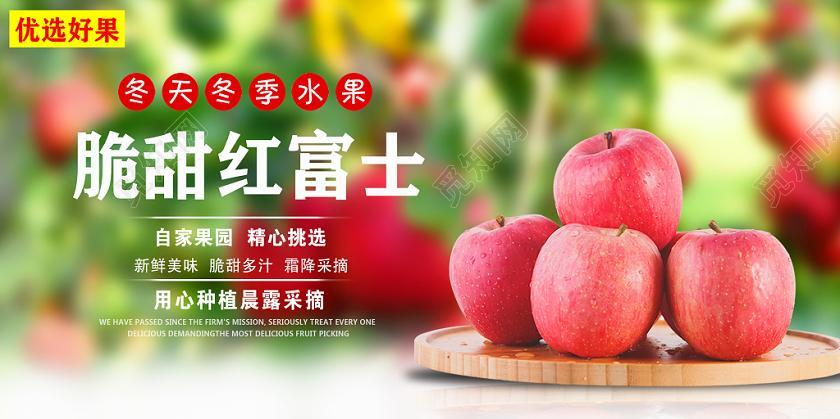apple: (663, 225, 797, 361), (530, 222, 663, 359), (552, 127, 685, 252), (448, 213, 557, 348)
